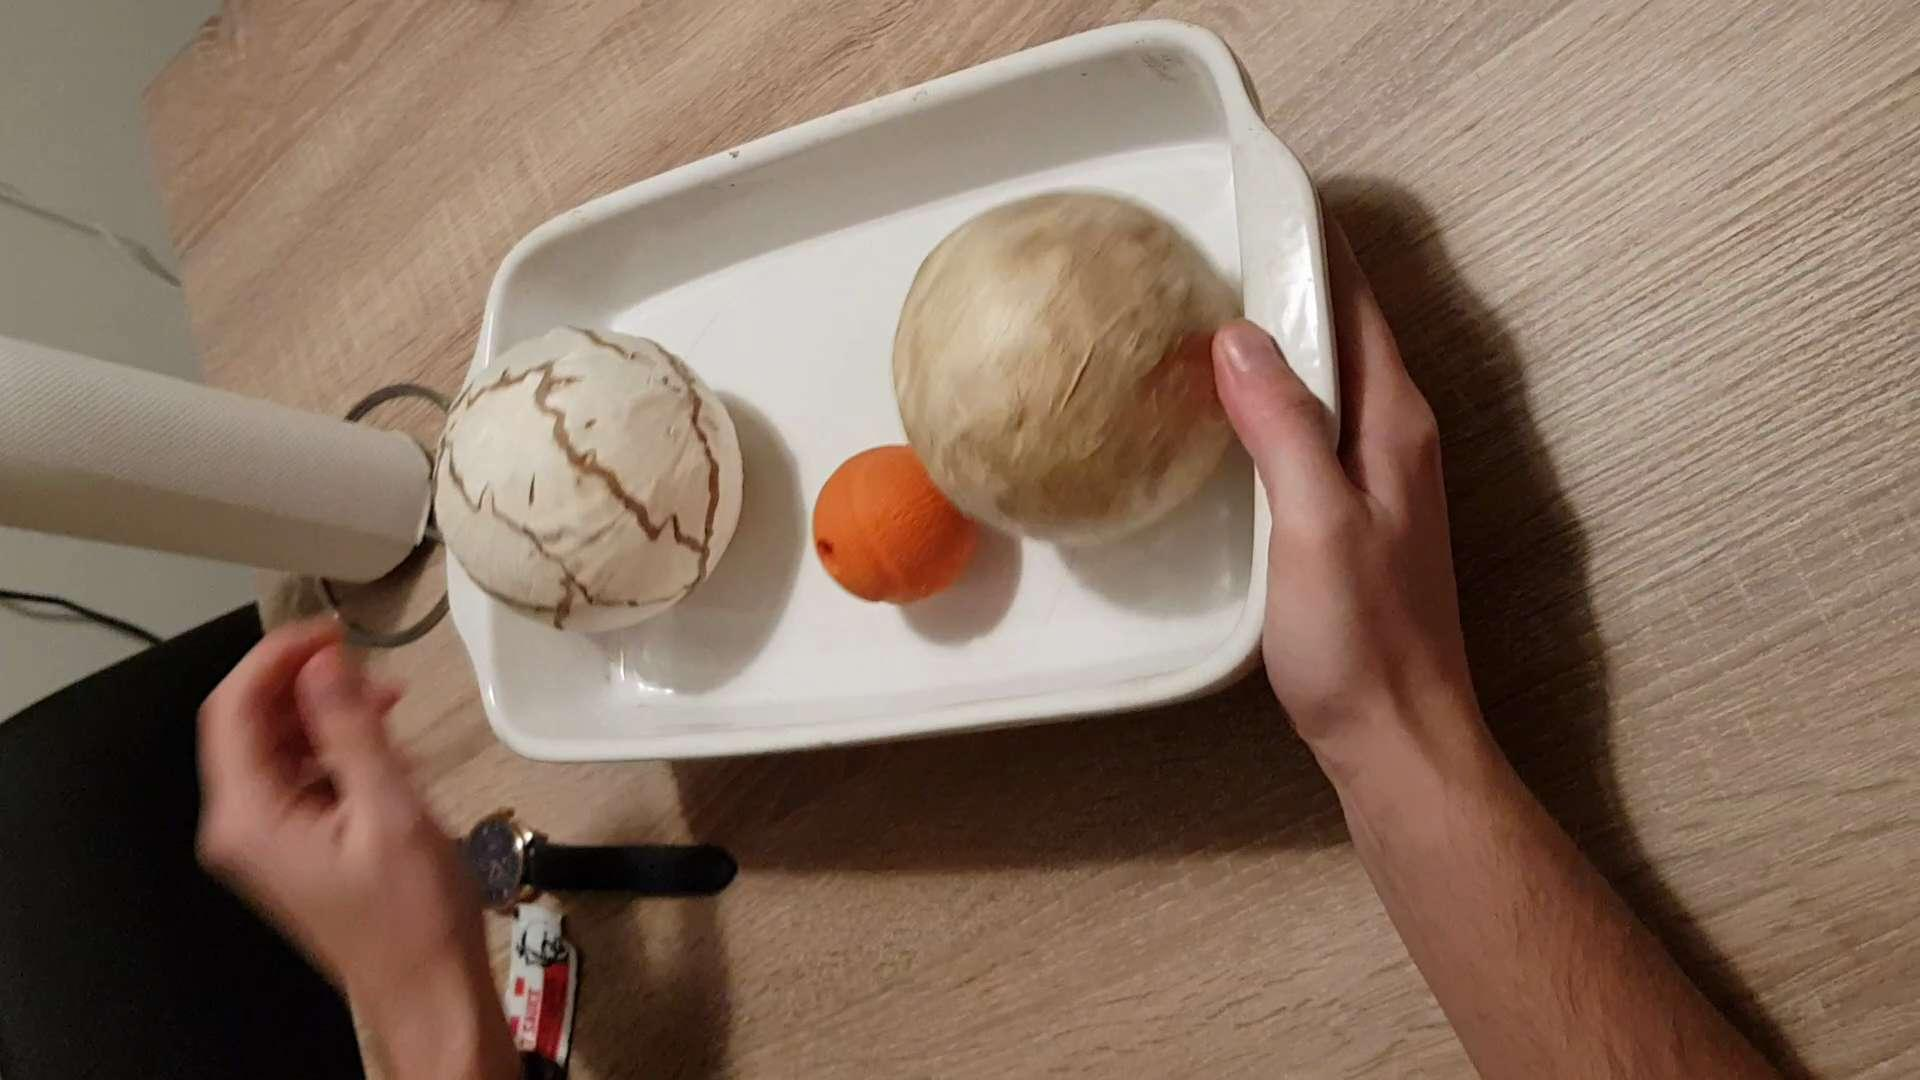Sphere: (808, 444, 982, 597)
sphere: (877, 179, 1266, 543), (422, 313, 746, 638)
